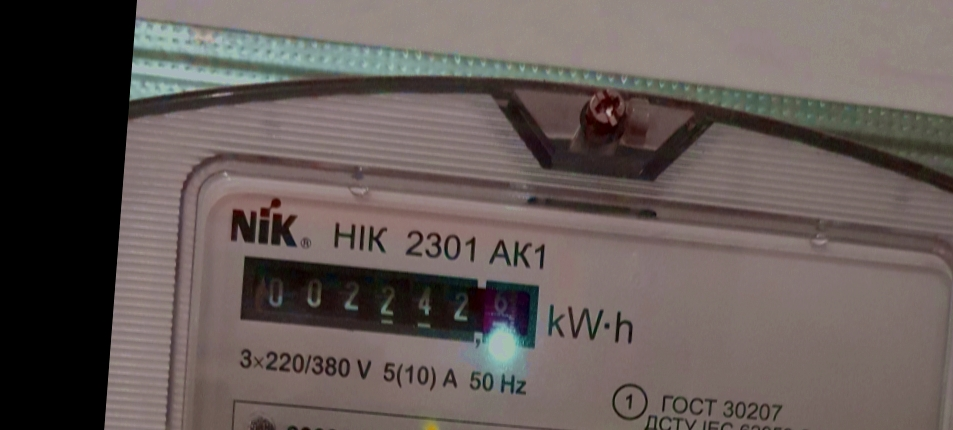0: (266, 274, 288, 309), (304, 275, 325, 309)
2: (378, 282, 399, 317), (342, 278, 364, 311), (452, 289, 472, 322)
4: (417, 283, 435, 316)
6: (493, 287, 511, 315)
screen: (229, 244, 552, 358)
